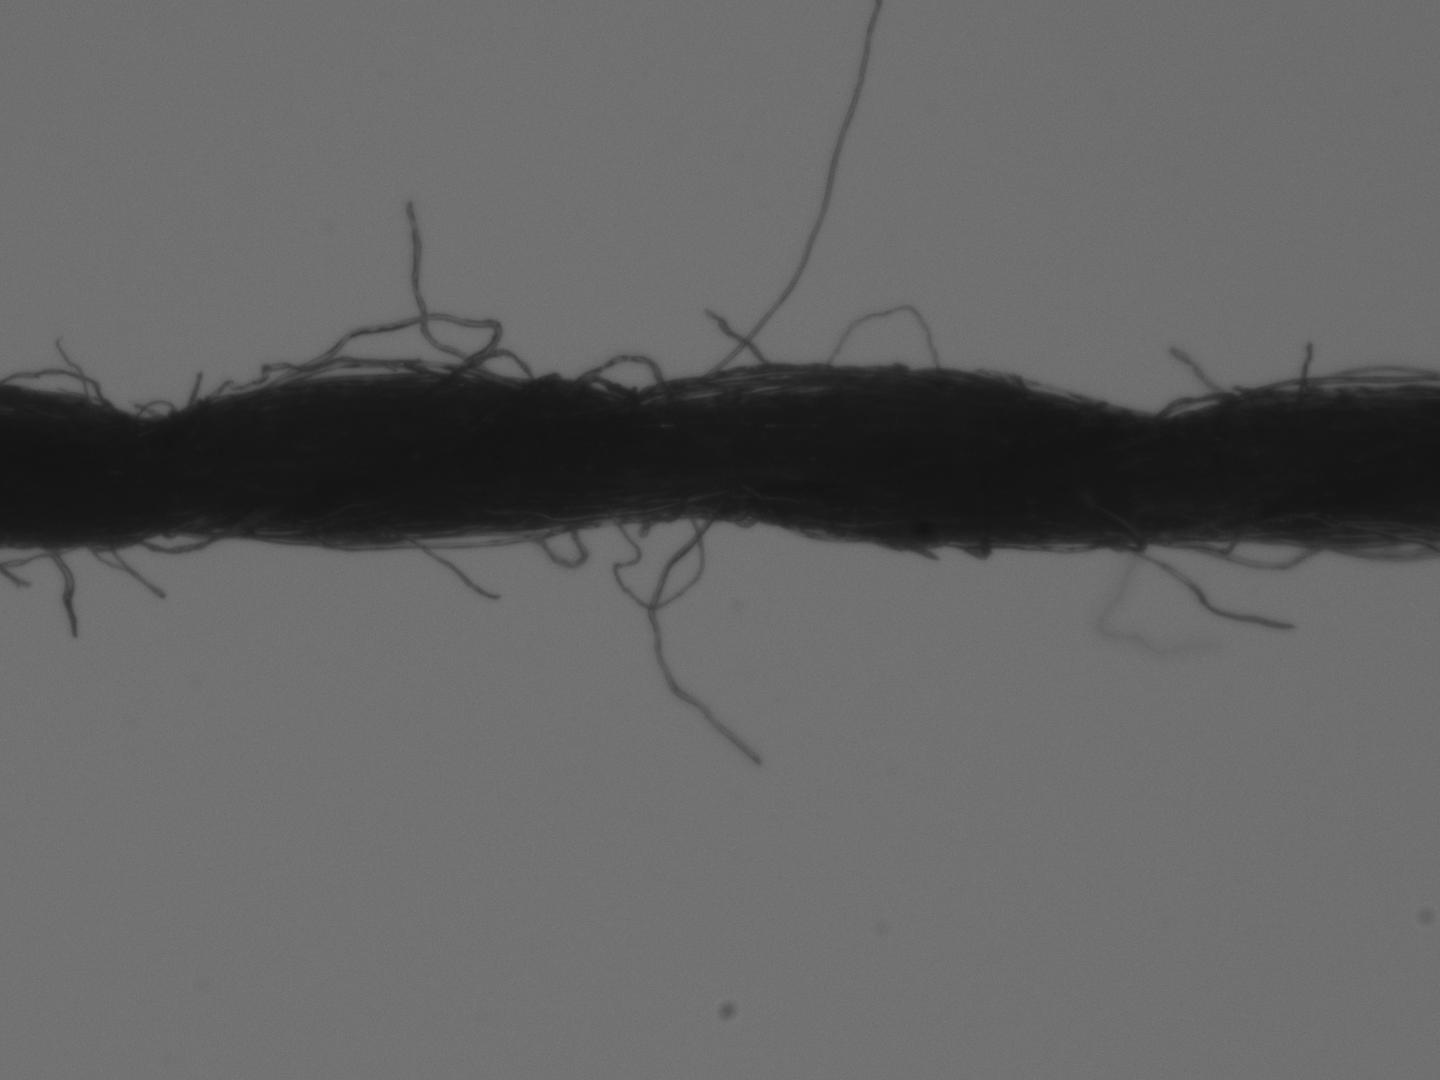loop_fiber: (277, 306, 506, 387), (609, 509, 706, 610), (820, 304, 940, 370), (319, 524, 573, 554), (571, 351, 676, 400), (426, 347, 531, 391), (1197, 537, 1322, 572), (511, 522, 588, 568), (1313, 538, 1432, 565), (110, 530, 232, 556), (1157, 387, 1235, 414), (1157, 537, 1240, 557), (126, 395, 175, 420)
protruding_fiber: (650, 518, 772, 778), (696, 302, 777, 369)
